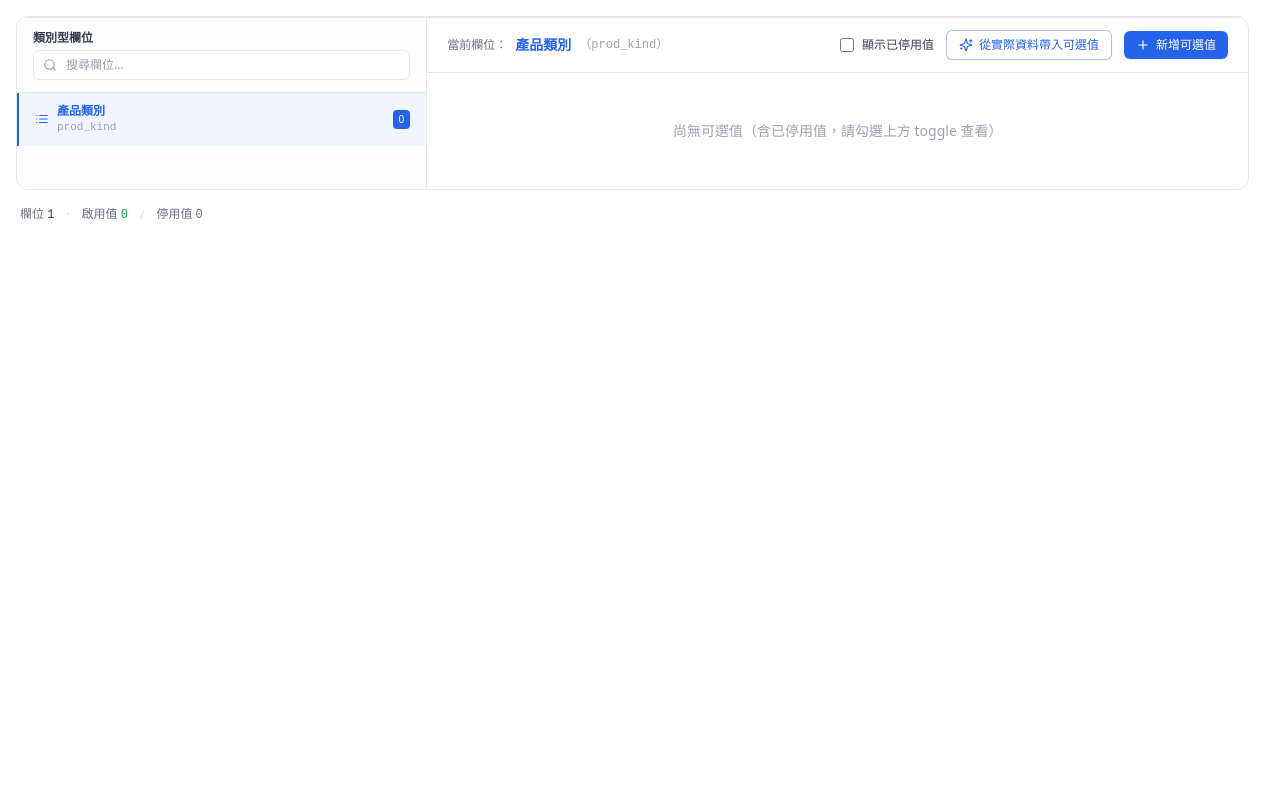
F112 OptionsTab 進入點 2 — 批次帶入按鈕 + Modal（FE2） › FE2-005：全部候選皆已存在（alreadyOption 全 true）→ 「無新可選值可帶入」，非空清單
What coordinates should you click on to do the following:
click the button with test id "btn-import-options-prod_kind"
I would click on:
 (1029, 45)
Its box is [946, 30, 1112, 60].
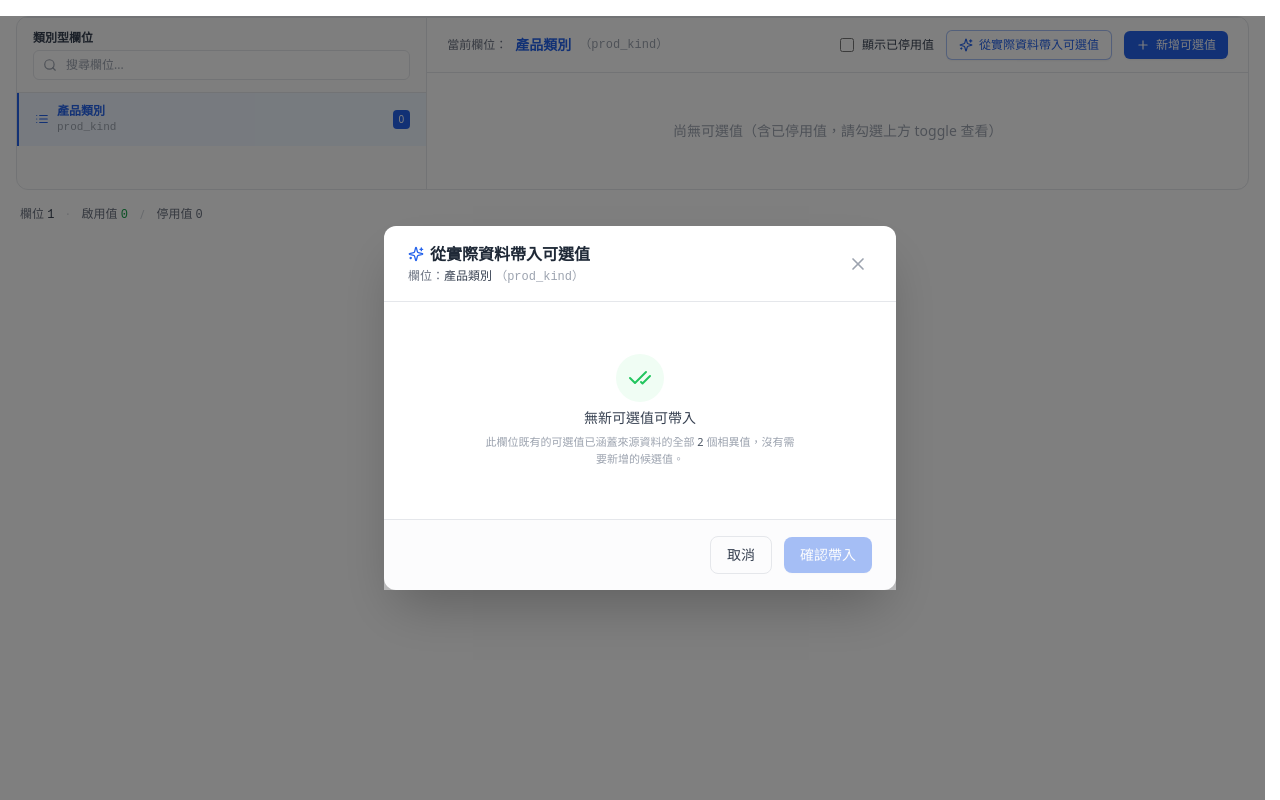
Check: the element with test id "bi-no-new" shows "無新可選值可帶入", box [584, 408, 696, 427]
Check: the button with test id "btn-confirm-bulk-import" is disabled, box [784, 537, 872, 573]
